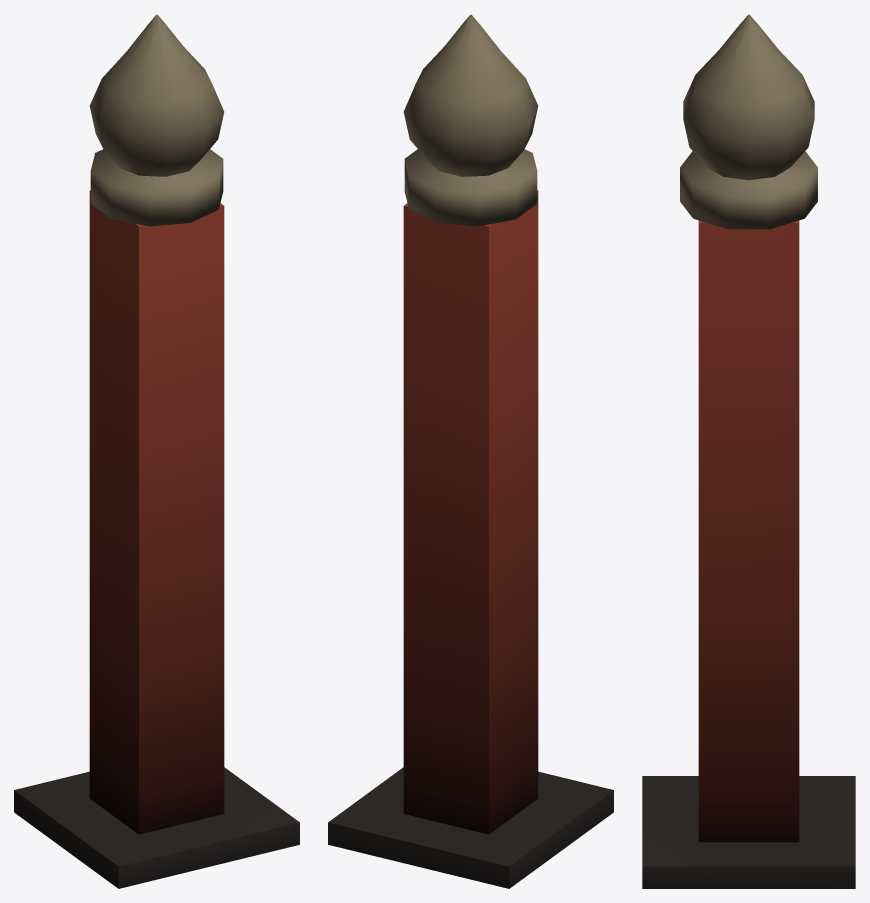
File: post.glb
3 views of the same model, side by side, from view 1: azimuth 30°, elevation 25°; view 2: azimuth 150°, elevation 25°; view 3: azimuth 270°, elevation 25° (orthographic).
Parts seen in each view (by area): view 1: Cube.001, Cube, lathe, Cone; view 2: Cube.001, Cube, lathe, Cone; view 3: Cube.001, Cube, lathe, Cone.
Boxes of the visible parts, bbox=[...] form: Cube.001: bbox=[89, 190, 224, 834]; Cube: bbox=[14, 767, 299, 888]; lathe: bbox=[89, 14, 224, 176]; Cone: bbox=[90, 149, 223, 226]; Cube.001: bbox=[403, 190, 538, 834]; Cube: bbox=[328, 767, 613, 888]; lathe: bbox=[403, 14, 538, 176]; Cone: bbox=[404, 149, 537, 226]; Cube.001: bbox=[698, 220, 799, 842]; Cube: bbox=[642, 776, 855, 888]; lathe: bbox=[683, 14, 814, 180]; Cone: bbox=[680, 151, 817, 229].
Size of the model in its own units: 0.34 by 1.46 by 0.34.
